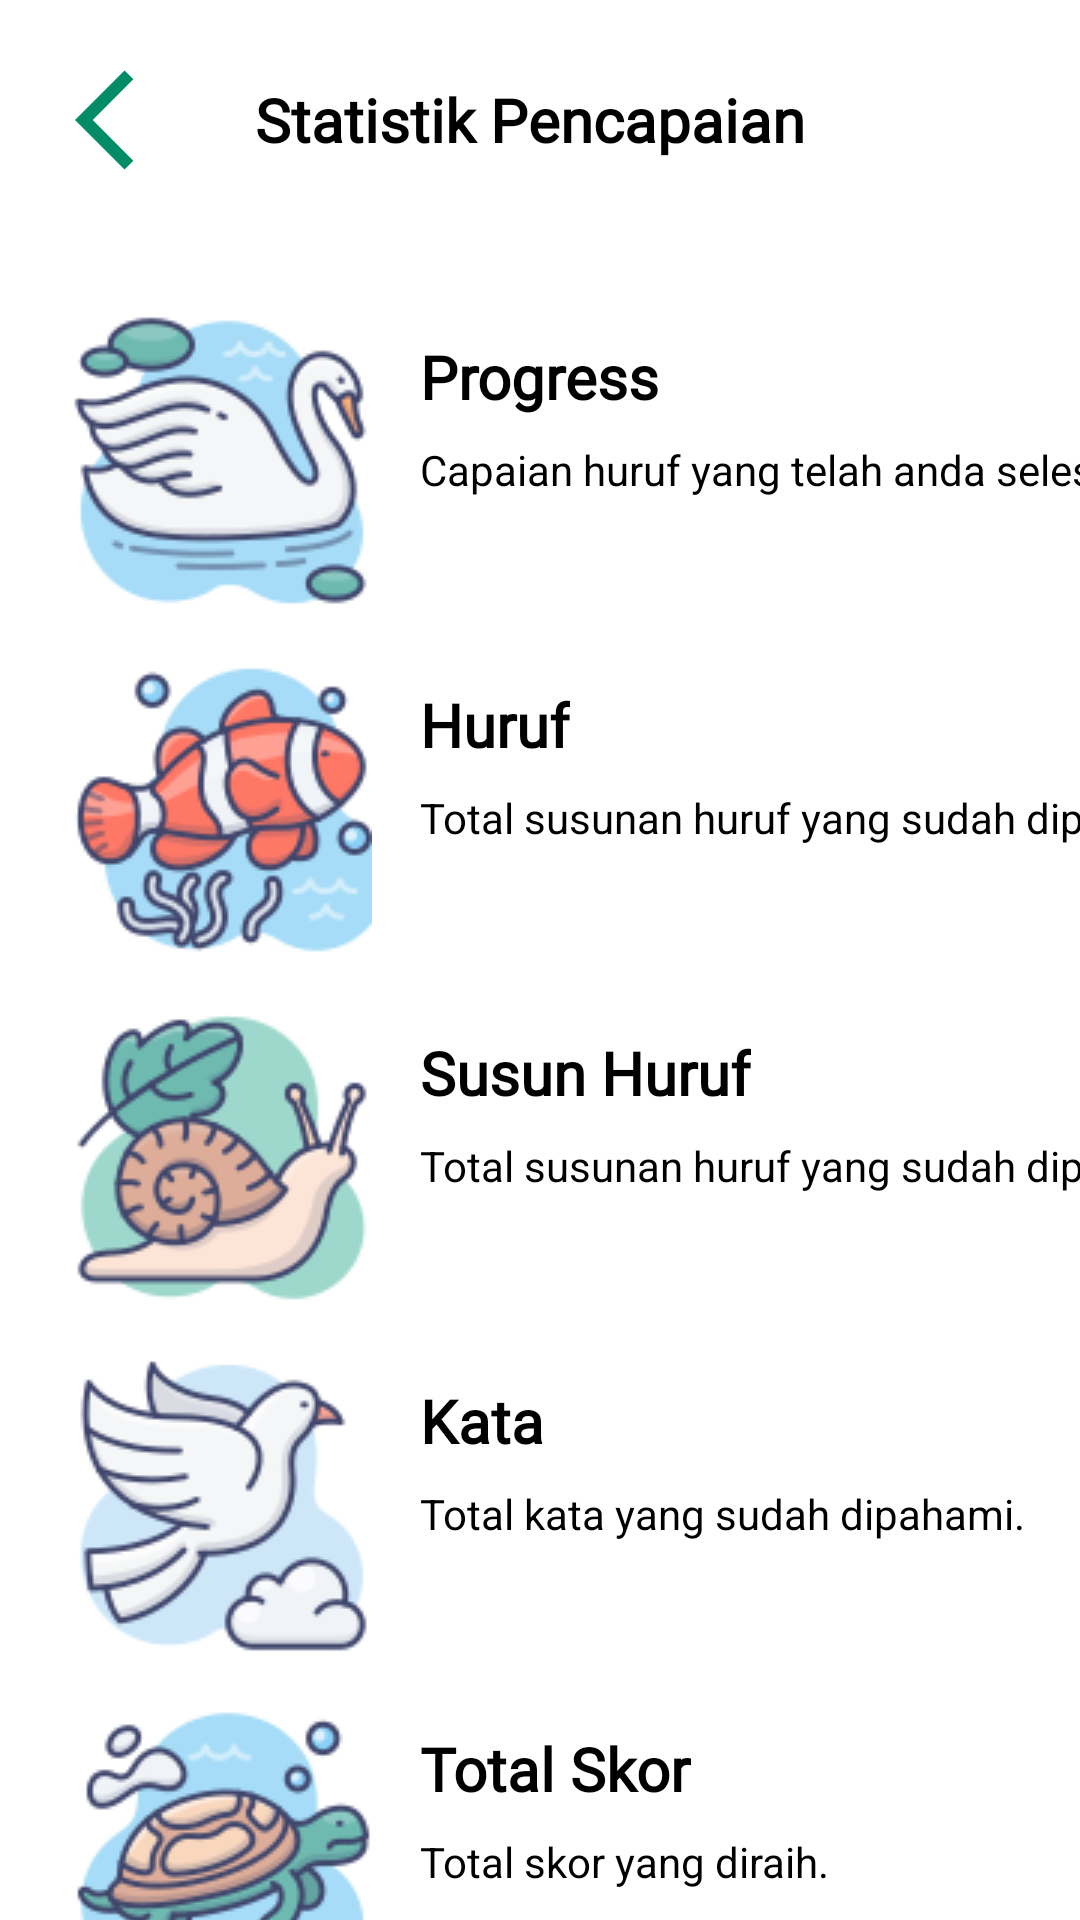

Named icons in this screenshot (1080x1920) and their centers, (x=x, y=y):
arrow back: (x=104, y=120)
